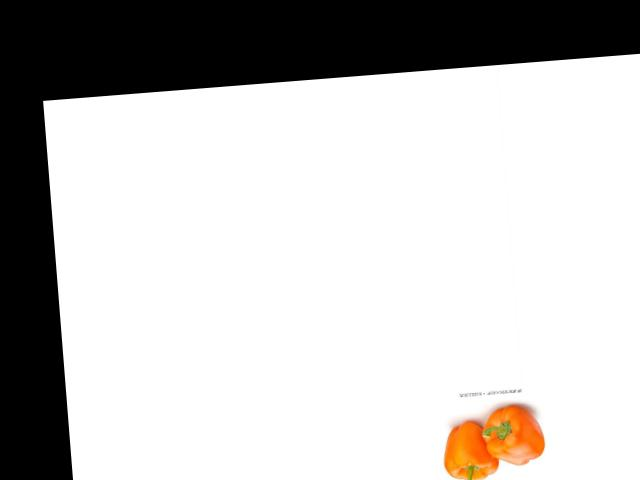bell_pepper: (477, 397, 548, 470)
